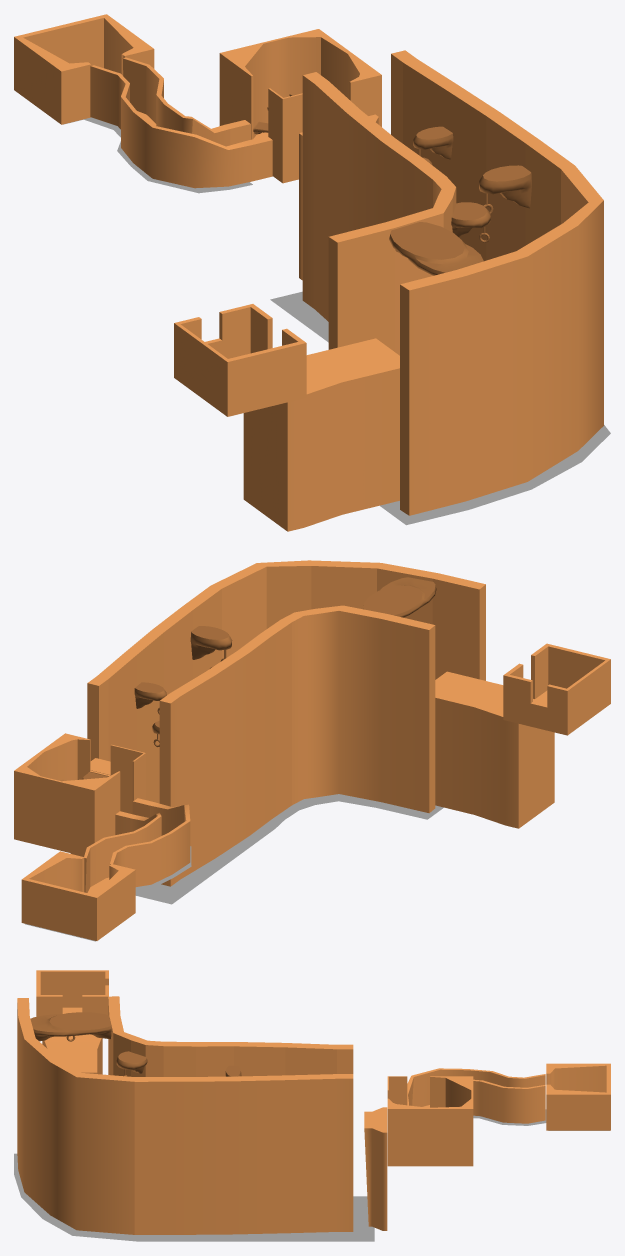
The model's file is TutorialLevel.fbx.
3 renders of one model, top to bottom at view 1: azimuth 30°, elevation 25°; view 2: azimuth 150°, elevation 25°; view 3: azimuth 270°, elevation 25°, orthographic. The views are drawn at different scales.
Parts seen in each view (by area): view 1: grappleArea1, landingFloor1, movementArea1, platformingArea1, platformingArea2, StartingPoint, floor2, wideGrappleRock, grappleRock4, grappleRock5, grappleRock2, floor1; view 2: grappleArea1, landingFloor1, platformingArea1, platformingArea2, StartingPoint, movementArea1, floor2, wideGrappleRock, grappleRock4, grappleRock2; view 3: grappleArea1, platformingArea1, movementArea1, StartingPoint, floor2, platformingArea2, landingFloor2, wideGrappleRock, landingFloor1, grappleRock5.
Boxes of the visible parts, x1=… form: grappleArea1: x1=302, y1=50, x2=603, y2=515; landingFloor1: x1=243, y1=338, x2=399, y2=531; movementArea1: x1=90, y1=57, x2=272, y2=188; platformingArea1: x1=219, y1=29, x2=381, y2=183; platformingArea2: x1=174, y1=304, x2=306, y2=416; StartingPoint: x1=14, y1=14, x2=154, y2=124; floor2: x1=270, y1=291, x2=610, y2=525; wideGrappleRock: x1=389, y1=222, x2=483, y2=275; grappleRock4: x1=479, y1=165, x2=531, y2=214; grappleRock5: x1=451, y1=202, x2=490, y2=242; grappleRock2: x1=413, y1=126, x2=453, y2=159; floor1: x1=63, y1=117, x2=252, y2=193; grappleArea1: x1=87, y1=560, x2=485, y2=886; landingFloor1: x1=435, y1=671, x2=554, y2=828; platformingArea1: x1=14, y1=733, x2=145, y2=856; platformingArea2: x1=503, y1=643, x2=610, y2=735; StartingPoint: x1=21, y1=851, x2=135, y2=940; movementArea1: x1=84, y1=798, x2=190, y2=894; floor2: x1=135, y1=794, x2=443, y2=904; wideGrappleRock: x1=363, y1=577, x2=436, y2=617; grappleRock4: x1=190, y1=626, x2=232, y2=661; grappleRock2: x1=134, y1=682, x2=166, y2=714; grappleArea1: x1=17, y1=996, x2=353, y2=1234; platformingArea1: x1=387, y1=1076, x2=473, y2=1166; movementArea1: x1=407, y1=1068, x2=545, y2=1123; StartingPoint: x1=546, y1=1063, x2=610, y2=1130; floor2: x1=14, y1=1153, x2=374, y2=1241; platformingArea2: x1=36, y1=970, x2=108, y2=1016; landingFloor2: x1=364, y1=1107, x2=387, y2=1230; wideGrappleRock: x1=30, y1=1012, x2=111, y2=1041; landingFloor1: x1=42, y1=1034, x2=102, y2=1074; grappleRock5: x1=116, y1=1051, x2=147, y2=1076.
Bounding box in the file's own units: 61.3 × 31.76 × 109.
